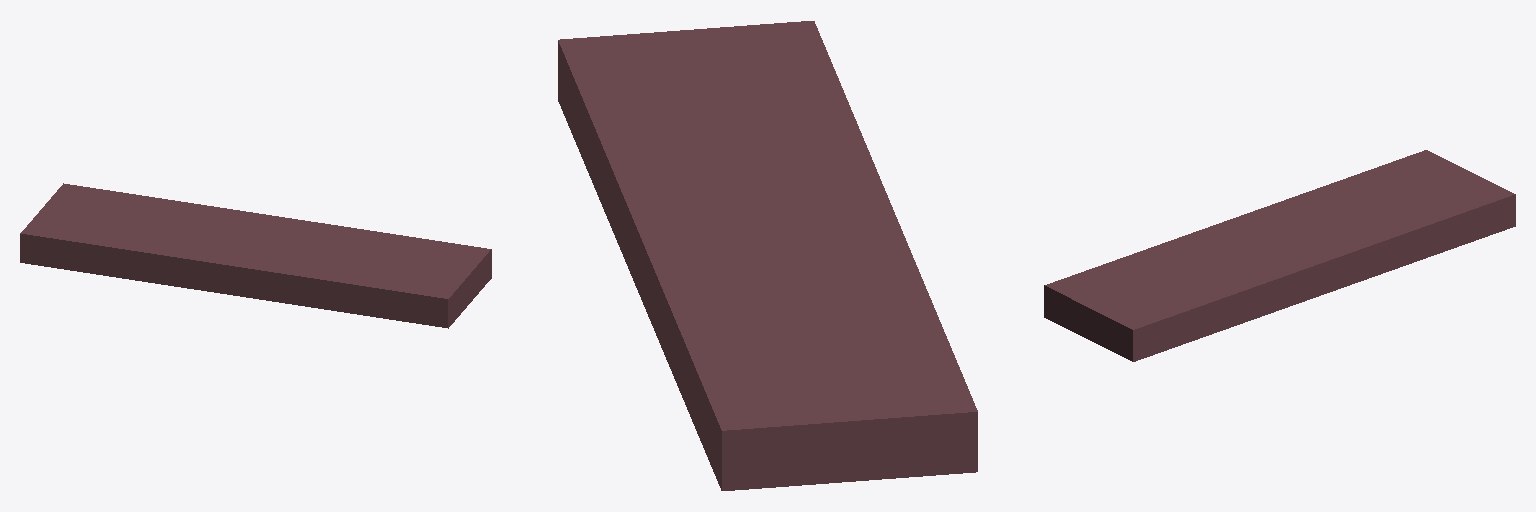
robot.urdf — Interference:
<?xml version="1.0"?>
<robot name="Interference">
  <link name="baseLink">
    <inertial>
      <origin xyz="0.0 0.0 0.0" rpy="0.0 0.0 0.0"/>
      <inertia ixx="0.0" ixy="0.0" ixz="0.0" iyy="0.0" iyz="0.0" izz="0.0"/>
      <mass value="0"/>
    </inertial>
    <visual>
      <origin xyz="0.0 0.0 0.0" rpy="0.0 0.0 -0.871959222180657"/>
      <geometry>
        <box size="0.14060959842986875 0.03892826062502084 0.01"/>
      </geometry>
      <material name="color">
        <color rgba="0.4692750386941623 0.3272386089177588 0.35048062208686137 1.0"/>
      </material>
    </visual>
  </link>
</robot>

--- Render facts (derived) ---
3 views of the same robot in one strip: view 1: azimuth 30°, elevation 25°; view 2: azimuth 150°, elevation 25°; view 3: azimuth 270°, elevation 25° (orthographic).
Model Interference with 1 links and 0 joints (none), rooted at baseLink, posed every joint at zero.
Links seen in each view (by area): view 1: baseLink; view 2: baseLink; view 3: baseLink.
Link boxes in pixels (left/top/right/bottom): baseLink: left=20, top=183, right=491, bottom=328; baseLink: left=558, top=21, right=977, bottom=490; baseLink: left=1044, top=150, right=1515, bottom=361.
Bounding box of the posed robot: 0.1203 × 0.1327 × 0.01 m (x, y, z).
Geometry: primitives only (box / cylinder / sphere), no mesh files.